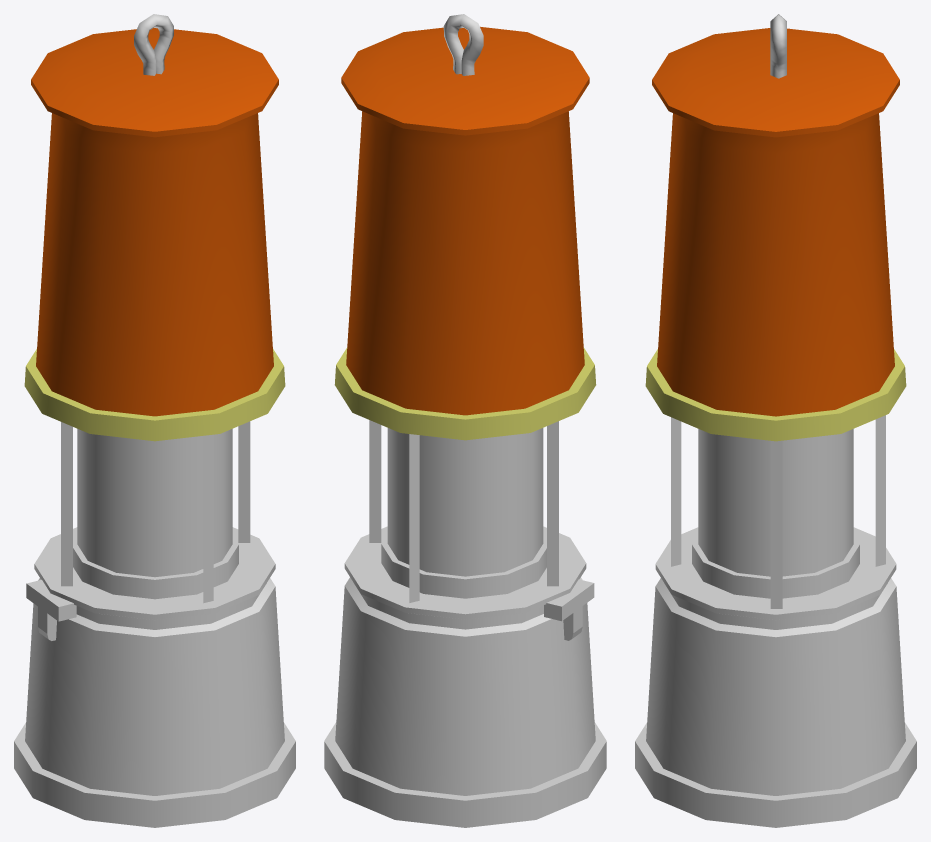
File: Oil Lamp.fbx
The picture shows the model from 3 angles, left to right: view 1: azimuth 30°, elevation 25°; view 2: azimuth 150°, elevation 25°; view 3: azimuth 270°, elevation 25°; orthographic projection.
Parts seen in each view (by area): view 1: Cylinder, Cylinder.001, Cylinder.006, Cylinder.005, Cylinder.002, BézierCurve, Cube, Cylinder.004; view 2: Cylinder, Cylinder.001, Cylinder.006, Cylinder.005, Cylinder.003, BézierCurve, Cube, Cylinder.004; view 3: Cylinder, Cylinder.001, Cylinder.006, Cylinder.004, Cylinder.003, Cylinder.002, BézierCurve.
Boxes of the visible parts, box(x1,y1,x2,y2) form: Cylinder: box(24, 28, 285, 441); Cylinder.001: box(14, 527, 295, 827); Cylinder.006: box(77, 429, 232, 577); Cylinder.005: box(61, 422, 72, 586); Cylinder.002: box(203, 434, 213, 603); BézierCurve: box(134, 14, 173, 75); Cube: box(26, 579, 76, 640); Cylinder.004: box(238, 421, 250, 542); Cylinder: box(334, 26, 596, 440); Cylinder.001: box(324, 526, 606, 827); Cylinder.006: box(387, 428, 543, 576); Cylinder.005: box(547, 421, 558, 586); Cylinder.003: box(409, 434, 419, 602); BézierCurve: box(443, 14, 483, 75); Cube: box(544, 579, 594, 640); Cylinder.004: box(369, 420, 381, 542); Cylinder: box(645, 28, 906, 441); Cylinder.001: box(635, 527, 916, 827); Cylinder.006: box(698, 429, 853, 576); Cylinder.004: box(770, 440, 782, 608); Cylinder.003: box(875, 415, 885, 566); Cylinder.002: box(671, 417, 681, 566); BézierCurve: box(770, 14, 786, 78).
Bounding box in the file's own units: 17.87 × 52.69 × 17.87.
